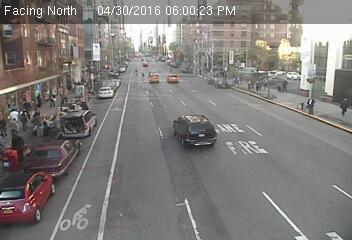neg: (79, 159, 126, 220), (264, 121, 310, 181), (190, 112, 223, 157), (133, 115, 165, 158), (274, 199, 303, 237), (4, 7, 32, 44), (263, 8, 289, 43), (44, 3, 69, 36), (202, 196, 226, 228), (211, 76, 233, 105), (88, 9, 109, 36), (187, 73, 208, 100), (198, 7, 216, 31), (77, 49, 94, 72), (110, 36, 125, 57), (228, 23, 241, 41), (185, 36, 193, 46), (176, 5, 182, 12)
pos: (1, 128, 31, 168), (24, 107, 48, 139), (14, 105, 33, 131), (304, 93, 321, 116), (337, 95, 351, 120), (32, 91, 47, 111), (6, 102, 20, 121), (280, 76, 294, 94), (46, 92, 59, 109), (9, 119, 21, 135), (253, 80, 262, 92), (132, 66, 141, 78), (167, 65, 175, 76), (139, 71, 147, 80)
